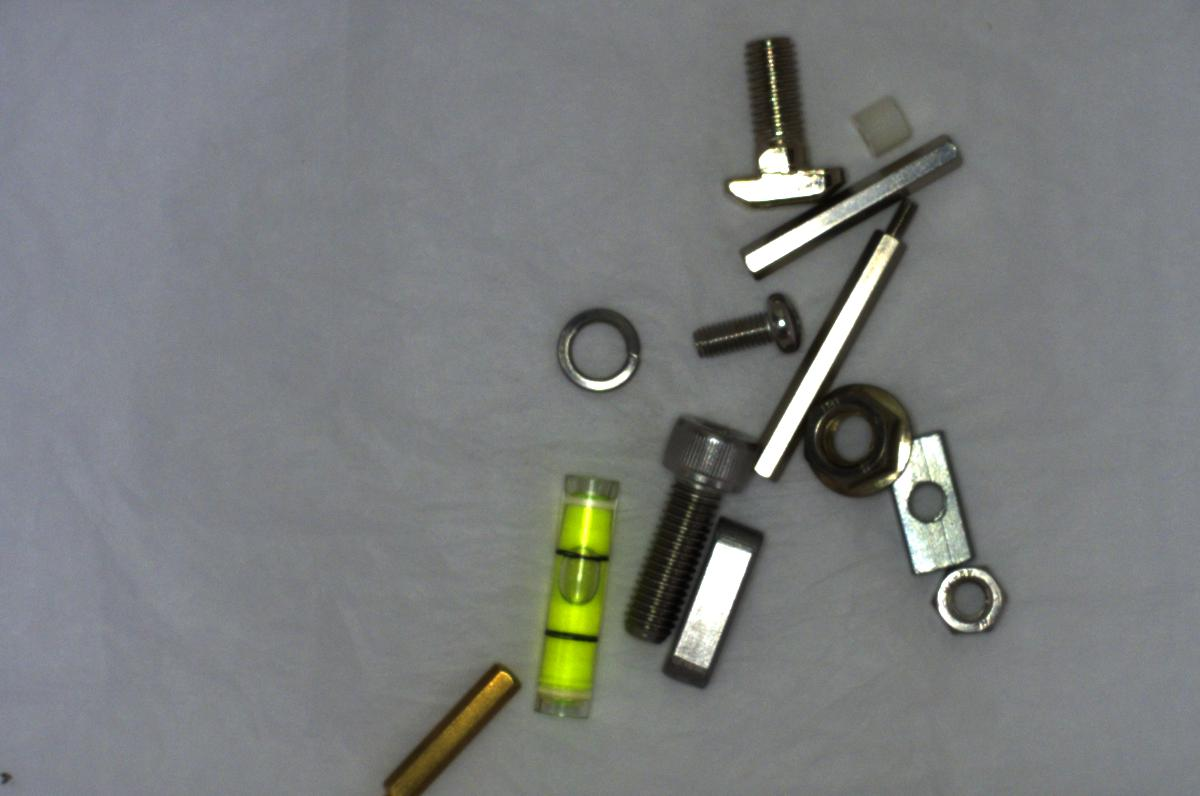Double hexagonal column: (725, 122, 974, 285)
Flange nut: (797, 373, 926, 501)
Hexagon nut: (921, 559, 1012, 646)
Hexagon pillar: (373, 651, 532, 792)
Hexagon screw: (619, 406, 762, 637)
Hexagonal steel column: (725, 196, 939, 490)
Horizontal bubble: (520, 469, 621, 731)
Keybar: (656, 504, 780, 700)
Plastic cushion pillar: (850, 90, 919, 171)
Rectangular nut: (887, 426, 987, 577)
Round head screw: (683, 289, 808, 368)
Spring washer: (537, 301, 647, 395)
T-shaped screw: (712, 15, 861, 215)
